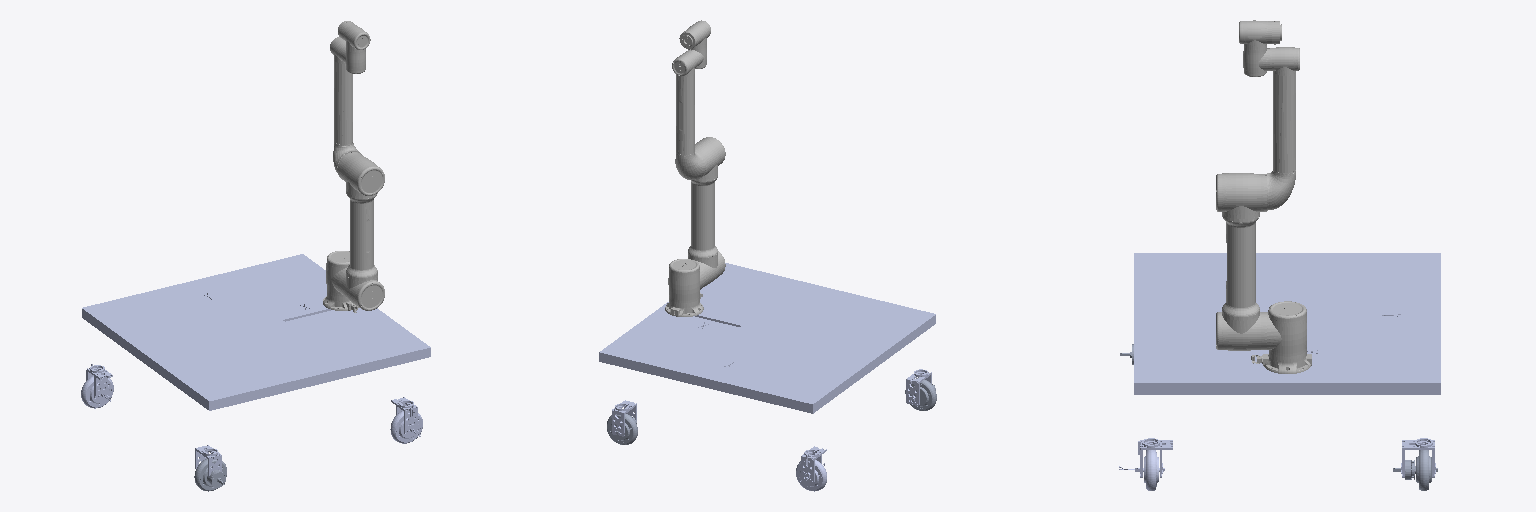
--- What the picture shows (computed from the rendered views, not written in the file) ---
3 views of the same robot in one strip: view 1: azimuth 30°, elevation 25°; view 2: azimuth 150°, elevation 25°; view 3: azimuth 270°, elevation 25° (orthographic).
Robot: robot_model — 17 links, 16 joints (10 revolute, 4 continuous, 2 fixed); root link base_footprint; default pose: every joint at zero.
Visible links, largest first — view 1: base_link, arm_link2, arm_link3, arm_link1, wheel_link4, arm_link5, wheel_link1, wheel_link3, turn_link1, turn_link3; view 2: base_link, arm_link2, arm_link3, arm_link1, wheel_link2, turn_link2, turn_link4, wheel_link3; view 3: base_link, arm_link2, arm_link3, arm_link1, arm_link5, wheel_link2, arm_link0, arm_link4, wheel_link1, turn_link2, turn_link1.
Link boxes in pixels (x1,y1,x2,y2): base_link: (82,254,430,410); arm_link2: (337,152,384,310); arm_link3: (330,37,361,172); arm_link1: (326,251,349,301); wheel_link4: (194,459,226,491); arm_link5: (341,23,370,50); wheel_link1: (390,411,422,443); wheel_link3: (81,376,113,408); turn_link1: (391,397,417,434); turn_link3: (86,364,112,399); base_link: (599,263,935,413); arm_link2: (688,137,725,286); arm_link3: (672,50,705,179); arm_link1: (668,259,705,307); wheel_link2: (607,414,637,444); turn_link2: (612,400,636,436); turn_link4: (906,369,931,405); wheel_link3: (796,460,826,491); base_link: (1134,253,1440,394); arm_link2: (1216,173,1266,350); arm_link3: (1267,47,1299,210); arm_link1: (1267,301,1306,362); arm_link5: (1239,20,1271,48); wheel_link2: (1393,450,1437,490); arm_link0: (1251,354,1311,373); arm_link4: (1243,46,1267,76); wheel_link1: (1119,450,1164,490); turn_link2: (1401,438,1435,477); turn_link1: (1138,438,1172,477).
Bounding box of the posed robot: 1.24 × 1.26 × 1.99 m (x, y, z).
16 mesh visuals loaded from 16 distinct referenced files (16 binary STL).

URDF robot description (robot_model):
<?xml version="1.0" encoding="utf-8"?>
<!-- This URDF was automatically created by SolidWorks to URDF Exporter! Originally created by Stephen Brawner ([email redacted]) 
     Commit Version: 1.5.1-0-g916b5db  Build Version: 1.5.7152.31018
     For more information, please see http://wiki.ros.org/sw_urdf_exporter -->
<robot
  name="robot_model">

  <link name="base_footprint">
  </link>

  <joint name="base_footprint2base_link" type="fixed">
    <origin xyz="0 0 0.5" rpy="0 0 0"/>
    <parent link="base_footprint"/>
    <child link="base_link"/>
    <axis xyz="0 0 0"/>
  </joint>



  <link
    name="base_link">
    <inertial>
      <origin
        xyz="-0.00893431238084795 -0.00410685218850798 -0.126974415298966"
        rpy="0 0 0" />
      <mass
        value="60.6584049873887" />
      <inertia
        ixx="1.93063361069271"
        ixy="-1.08148006992139E-05"
        ixz="-0.000147443513716209"
        iyy="2.82233947881137"
        iyz="3.80713670524455E-06"
        izz="4.57189084727919" />
    </inertial>
    <visual>
      <origin
        xyz="0 0 0"
        rpy="0 0 0" />
      <geometry>
        <mesh
          filename="package://robot_model/meshes/base_link.STL" />
      </geometry>
      <material
        name="">
        <color
          rgba="0.792156862745098 0.819607843137255 0.933333333333333 1" />
      </material>
    </visual>
    <collision>
      <origin
        xyz="0 0 0"
        rpy="0 0 0" />
      <geometry>
        <mesh
          filename="package://robot_model/meshes/base_link.STL" />
      </geometry>
    </collision>
  </link>
  <link
    name="arm_link0">
    <inertial>
      <origin
        xyz="-1.85892599924298E-07 -0.00115098665543706 0.0188300807306432"
        rpy="0 0 0" />
      <mass
        value="0.655152540803042" />
      <inertia
        ixx="0.00156276083969846"
        ixy="-3.36599648618771E-08"
        ixz="-1.62894681484622E-10"
        iyy="0.00121051829401654"
        iyz="-5.21192954217806E-06"
        izz="0.00262778163467102" />
    </inertial>
    <visual>
      <origin
        xyz="0 0 0"
        rpy="0 0 0" />
      <geometry>
        <mesh
          filename="package://robot_model/meshes/arm_link0.STL" />
      </geometry>
      <material
        name="">
        <color
          rgba="0.752941176470588 0.752941176470588 0.752941176470588 1" />
      </material>
    </visual>
    <collision>
      <origin
        xyz="0 0 0"
        rpy="0 0 0" />
      <geometry>
        <mesh
          filename="package://robot_model/meshes/arm_link0.STL" />
      </geometry>
    </collision>
  </link>
  <joint
    name="arm_joint0"
    type="fixed">
    <origin
      xyz="0.469251651718155 0 0.02"
      rpy="0 0 0" />
    <parent
      link="base_link" />
    <child
      link="arm_link0" />
    <axis
      xyz="0 0 0" />
  </joint>
  <link
    name="arm_link1">
    <inertial>
      <origin
        xyz="6.56593143250062E-06 -0.00217986182575047 -0.00131736708112296"
        rpy="0 0 0" />
      <mass
        value="3.60449209211676" />
      <inertia
        ixx="0.0126654074039028"
        ixy="-2.62089433741316E-07"
        ixz="-1.31830270669369E-07"
        iyy="0.0127154549514285"
        iyz="0.000389410015223875"
        izz="0.0111093940722602" />
    </inertial>
    <visual>
      <origin
        xyz="0 0 0"
        rpy="0 0 0" />
      <geometry>
        <mesh
          filename="package://robot_model/meshes/arm_link1.STL" />
      </geometry>
      <material
        name="">
        <color
          rgba="0.752941176470588 0.752941176470588 0.752941176470588 1" />
      </material>
    </visual>
    <collision>
      <origin
        xyz="0 0 0"
        rpy="0 0 0" />
      <geometry>
        <mesh
          filename="package://robot_model/meshes/arm_link1.STL" />
      </geometry>
    </collision>
  </link>
  <joint
    name="arm_joint1"
    type="revolute">
    <origin
      xyz="0 0 0.14261"
      rpy="0 0 0" />
    <parent
      link="arm_link0" />
    <child
      link="arm_link1" />
    <axis
      xyz="0 0 -1" />
    <limit
      lower="-4.71"
      upper="4.71"
      effort="160"
      velocity="2.09" />
  </joint>
  <link
    name="arm_link2">
    <inertial>
      <origin
        xyz="0.297295860029644 -7.22116929952055E-06 0.181245687804858"
        rpy="0 0 0" />
      <mass
        value="12.2380791922919" />
      <inertia
        ixx="0.0343806292140874"
        ixy="5.21480259951953E-07"
        ixz="-4.57209805955594E-06"
        iyy="0.119109154320758"
        iyz="3.32647013373687E-10"
        izz="0.116279406836501" />
    </inertial>
    <visual>
      <origin
        xyz="0 0 0"
        rpy="0 0 0" />
      <geometry>
        <mesh
          filename="package://robot_model/meshes/arm_link2.STL" />
      </geometry>
      <material
        name="">
        <color
          rgba="0.752941176470588 0.752941176470588 0.752941176470588 1" />
      </material>
    </visual>
    <collision>
      <origin
        xyz="0 0 0"
        rpy="0 0 0" />
      <geometry>
        <mesh
          filename="package://robot_model/meshes/arm_link2.STL" />
      </geometry>
    </collision>
  </link>
  <joint
    name="arm_joint2"
    type="revolute">
    <origin
      xyz="0 0 0"
      rpy="1.5708 -1.5708 0" />
    <parent
      link="arm_link1" />
    <child
      link="arm_link2" />
    <axis
      xyz="0 0 -1" />
    <limit
      lower="-1.48"
      upper="4.63"
      effort="159.24"
      velocity="2.09" />
  </joint>
  <link
    name="arm_link3">
    <inertial>
      <origin
        xyz="0.279323373643594 -2.05269174754497E-05 -0.0168804752155597"
        rpy="0 0 0" />
      <mass
        value="4.95956568648557" />
      <inertia
        ixx="0.0070392604484286"
        ixy="-1.10355720175606E-06"
        ixz="-0.00581502732927868"
        iyy="0.121787936376111"
        iyz="-1.14663299532286E-07"
        izz="0.121496286554897" />
    </inertial>
    <visual>
      <origin
        xyz="0 0 0"
        rpy="0 0 0" />
      <geometry>
        <mesh
          filename="package://robot_model/meshes/arm_link3.STL" />
      </geometry>
      <material
        name="">
        <color
          rgba="0.752941176470588 0.752941176470588 0.752941176470588 1" />
      </material>
    </visual>
    <collision>
      <origin
        xyz="0 0 0"
        rpy="0 0 0" />
      <geometry>
        <mesh
          filename="package://robot_model/meshes/arm_link3.STL" />
      </geometry>
    </collision>
  </link>
  <joint
    name="arm_joint3"
    type="revolute">
    <origin
      xyz="0.59497 -2.3063E-05 0"
      rpy="-3.1416 0 0" />
    <parent
      link="arm_link2" />
    <child
      link="arm_link3" />
    <axis
      xyz="0 0 1" />
    <limit
      lower="-3.05"
      upper="3.05"
      effort="82.38"
      velocity="2.09" />
  </joint>
  <link
    name="arm_link4">
    <inertial>
      <origin
        xyz="-2.96649884686251E-05 -0.002621237975338 0.124278582104445"
        rpy="0 0 0" />
      <mass
        value="0.838886390347174" />
      <inertia
        ixx="0.00145630007823869"
        ixy="-1.63799148217372E-09"
        ixz="6.54274434315661E-09"
        iyy="0.00098615661868495"
        iyz="3.14742670990643E-06"
        izz="0.0014481473926624" />
    </inertial>
    <visual>
      <origin
        xyz="0 0 0"
        rpy="0 0 0" />
      <geometry>
        <mesh
          filename="package://robot_model/meshes/arm_link4.STL" />
      </geometry>
      <material
        name="">
        <color
          rgba="0.752941176470588 0.752941176470588 0.752941176470588 1" />
      </material>
    </visual>
    <collision>
      <origin
        xyz="0 0 0"
        rpy="0 0 0" />
      <geometry>
        <mesh
          filename="package://robot_model/meshes/arm_link4.STL" />
      </geometry>
    </collision>
  </link>
  <joint
    name="arm_joint4"
    type="revolute">
    <origin
      xyz="0.574643539264634 -4.5712785851082E-05 0"
      rpy="-3.14159265358979 0 -1.5707963267949" />
    <parent
      link="arm_link3" />
    <child
      link="arm_link4" />
    <axis
      xyz="0 0 1" />
    <limit
      lower="-1.48"
      upper="4.63"
      effort="13.44"
      velocity="3.14" />
  </joint>
  <link
    name="arm_link5">
    <inertial>
      <origin
        xyz="1.93547867122223E-07 0.12717221555251 -0.0011354400305007"
        rpy="0 0 0" />
      <mass
        value="0.838308466445079" />
      <inertia
        ixx="0.00145558323350275"
        ixy="4.49383625882674E-09"
        ixz="6.58455661563857E-09"
        iyy="0.00100189729657383"
        iyz="-1.22072724248397E-06"
        izz="0.00144948878190334" />
    </inertial>
    <visual>
      <origin
        xyz="0 0 0"
        rpy="0 0 0" />
      <geometry>
        <mesh
          filename="package://robot_model/meshes/arm_link5.STL" />
      </geometry>
      <material
        name="">
        <color
          rgba="0.752941176470588 0.752941176470588 0.752941176470588 1" />
      </material>
    </visual>
    <collision>
      <origin
        xyz="0 0 0"
        rpy="0 0 0" />
      <geometry>
        <mesh
          filename="package://robot_model/meshes/arm_link5.STL" />
      </geometry>
    </collision>
  </link>
  <joint
    name="arm_joint5"
    type="revolute">
    <origin
      xyz="-2.9874E-05 -0.11445 0"
      rpy="1.5708 0 0" />
    <parent
      link="arm_link4" />
    <child
      link="arm_link5" />
    <axis
      xyz="0 0 1" />
    <limit
      lower="-4.71"
      upper="4.71"
      effort="12.06"
      velocity="3.14" />
  </joint>
  <link
    name="arm_link6">
    <inertial>
      <origin
        xyz="-4.913320295441E-05 0.000344891733140895 -0.0420522876754666"
        rpy="0 0 0" />
      <mass
        value="0.18561500243153" />
      <inertia
        ixx="0.000124025995543342"
        ixy="-5.32236134535511E-08"
        ixz="2.56685033045269E-08"
        iyy="0.000124255184258649"
        iyz="-2.96050182378096E-07"
        izz="0.000211261380376879" />
    </inertial>
    <visual>
      <origin
        xyz="0 0 0"
        rpy="0 0 0" />
      <geometry>
        <mesh
          filename="package://robot_model/meshes/arm_link6.STL" />
      </geometry>
      <material
        name="">
        <color
          rgba="0.752941176470588 0.752941176470588 0.752941176470588 1" />
      </material>
    </visual>
    <collision>
      <origin
        xyz="0 0 0"
        rpy="0 0 0" />
      <geometry>
        <mesh
          filename="package://robot_model/meshes/arm_link6.STL" />
      </geometry>
    </collision>
  </link>
  <joint
    name="joint_link6"
    type="revolute">
    <origin
      xyz="0 0 0"
      rpy="1.5707963267949 0 0" />
    <parent
      link="arm_link5" />
    <child
      link="arm_link6" />
    <axis
      xyz="0 0 1" />
    <limit
      lower="-4.71"
      upper="4.71"
      effort="5.46"
      velocity="3.14" />
  </joint>
  <link
    name="turn_link1">
    <inertial>
      <origin
        xyz="4.78495572497906E-06 -0.00533710570631507 -0.0635741590696821"
        rpy="0 0 0" />
      <mass
        value="0.216185282126058" />
      <inertia
        ixx="0.00026246870165202"
        ixy="9.23224201425085E-12"
        ixz="2.5732826757356E-08"
        iyy="0.000263417398814689"
        iyz="1.65492626580328E-06"
        izz="0.00019815950604125" />
    </inertial>
    <visual>
      <origin
        xyz="0 0 0"
        rpy="0 0 0" />
      <geometry>
        <mesh
          filename="package://robot_model/meshes/turn_link1.STL" />
      </geometry>
      <material
        name="">
        <color
          rgba="0.792156862745098 0.819607843137255 0.933333333333333 1" />
      </material>
    </visual>
    <collision>
      <origin
        xyz="0 0 0"
        rpy="0 0 0" />
      <geometry>
        <mesh
          filename="package://robot_model/meshes/turn_link1.STL" />
      </geometry>
    </collision>
  </link>
  <joint
    name="joint_turn1"
    type="revolute">
    <origin
      xyz="0.51025165171796 -0.531954815283265 -0.415396961061793"
      rpy="3.14159265358979 0 0" />
    <parent
      link="base_link" />
    <child
      link="turn_link1" />
    <axis
      xyz="0 0 1" />
    <limit
      lower="-6.28"
      upper="6.28"
      effort="24"
      velocity="392.7" />
  </joint>
  <link
    name="wheel_link1">
    <inertial>
      <origin
        xyz="-9.23771441119214E-07 -1.45099633808154E-07 9.05810189412715E-05"
        rpy="0 0 0" />
      <mass
        value="1.00158503747343" />
      <inertia
        ixx="0.00173475166931306"
        ixy="9.86515466133112E-10"
        ixz="-1.16441874880337E-08"
        iyy="0.00173476885800945"
        iyz="1.80126237976292E-09"
        izz="0.00304652603387399" />
    </inertial>
    <visual>
      <origin
        xyz="0 0 0"
        rpy="0 0 0" />
      <geometry>
        <mesh
          filename="package://robot_model/meshes/wheel_link1.STL" />
      </geometry>
      <material
        name="">
        <color
          rgba="0.792156862745098 0.819607843137255 0.933333333333333 1" />
      </material>
    </visual>
    <collision>
      <origin
        xyz="0 0 0"
        rpy="0 0 0" />
      <geometry>
        <mesh
          filename="package://robot_model/meshes/wheel_link1.STL" />
      </geometry>
    </collision>
  </link>
  <joint
    name="joint_wheel1"
    type="continuous">
    <origin
      xyz="0 0 0"
      rpy="1.5707963267949 1.5707963267949 0" />
    <parent
      link="turn_link1" />
    <child
      link="wheel_link1" />
    <axis
      xyz="0 0 -1" />
  </joint>
  <link
    name="turn_link2">
    <inertial>
      <origin
        xyz="2.83465867445543E-09 0.0200042619428674 -0.0631120030681842"
        rpy="0 0 0" />
      <mass
        value="0.212907250011006" />
      <inertia
        ixx="0.00026151235533371"
        ixy="9.23224334742709E-12"
        ixz="2.9018916968451E-12"
        iyy="0.000262449337362649"
        iyz="-1.65492626580359E-06"
        izz="0.000198093157038937" />
    </inertial>
    <visual>
      <origin
        xyz="0 0 0"
        rpy="0 0 0" />
      <geometry>
        <mesh
          filename="package://robot_model/meshes/turn_link2.STL" />
      </geometry>
      <material
        name="">
        <color
          rgba="0.792156862745098 0.819607843137255 0.933333333333333 1" />
      </material>
    </visual>
    <collision>
      <origin
        xyz="0 0 0"
        rpy="0 0 0" />
      <geometry>
        <mesh
          filename="package://robot_model/meshes/turn_link2.STL" />
      </geometry>
    </collision>
  </link>
  <joint
    name="turn_jiont2"
    type="revolute">
    <origin
      xyz="0.510251651718055 0.531954815283242 -0.415396961061802"
      rpy="-3.14159265358979 0 0" />
    <parent
      link="base_link" />
    <child
      link="turn_link2" />
    <axis
      xyz="0 0 1" />
    <limit
      lower="-6.28"
      upper="6.28"
      effort="24"
      velocity="392.7" />
  </joint>
  <link
    name="wheel_link2">
    <inertial>
      <origin
        xyz="7.83556561412269E-07 8.00142584300723E-07 -0.0108319687597789"
        rpy="0 0 0" />
      <mass
        value="2.70084577274723" />
      <inertia
        ixx="0.00550122561756971"
        ixy="3.26944950597682E-08"
        ixz="-4.5961962270357E-07"
        iyy="0.00550150558695668"
        iyz="8.19279366600689E-08"
        izz="0.00712927200457169" />
    </inertial>
    <visual>
      <origin
        xyz="0 0 0"
        rpy="0 0 0" />
      <geometry>
        <mesh
          filename="package://robot_model/meshes/wheel_link2.STL" />
      </geometry>
      <material
        name="">
        <color
          rgba="0.666666666666667 0.698039215686274 0.768627450980392 1" />
      </material>
    </visual>
    <collision>
      <origin
        xyz="0 0 0"
        rpy="0 0 0" />
      <geometry>
        <mesh
          filename="package://robot_model/meshes/wheel_link2.STL" />
      </geometry>
    </collision>
  </link>
  <joint
    name="joint_wheel2"
    type="continuous">
    <origin
      xyz="0 0 0"
      rpy="1.5707963267949 1.5707963267949 0" />
    <parent
      link="turn_link2" />
    <child
      link="wheel_link2" />
    <axis
      xyz="0 0 -1" />
  </joint>
  <link
    name="turn_link3">
    <inertial>
      <origin
        xyz="-4.78495572542315E-06 0.00533710570631452 -0.0635741590696814"
        rpy="0 0 0" />
      <mass
        value="0.216185282126058" />
      <inertia
        ixx="0.000262468701652019"
        ixy="9.23224218417622E-12"
        ixz="-2.57328267574584E-08"
        iyy="0.000263417398814688"
        iyz="-1.65492626580302E-06"
        izz="0.00019815950604125" />
    </inertial>
    <visual>
      <origin
        xyz="0 0 0"
        rpy="0 0 0" />
      <geometry>
        <mesh
          filename="package://robot_model/meshes/turn_link3.STL" />
      </geometry>
      <material
        name="">
        <color
          rgba="0.792156862745098 0.819607843137255 0.933333333333333 1" />
      </material>
    </visual>
    <collision>
      <origin
        xyz="0 0 0"
        rpy="0 0 0" />
      <geometry>
        <mesh
          filename="package://robot_model/meshes/turn_link3.STL" />
      </geometry>
    </collision>
  </link>
  <joint
    name="joint_turn3"
    type="revolute">
    <origin
      xyz="-0.551748348281648 0.531954815283274 -0.415396961061793"
      rpy="3.14159265358979 0 0" />
    <parent
      link="base_link" />
    <child
      link="turn_link3" />
    <axis
      xyz="0 0 1" />
    <limit
      lower="-6.28"
      upper="6.28"
      effort="24"
      velocity="392.7" />
  </joint>
  <link
    name="wheel_link3">
    <inertial>
      <origin
        xyz="-9.23785491213636E-07 -1.45096786585697E-07 9.05810052858058E-05"
        rpy="0 0 0" />
      <mass
        value="1.00158503687007" />
      <inertia
        ixx="0.00173475166902223"
        ixy="9.86445932143399E-10"
        ixz="-1.16438750737094E-08"
        iyy="0.00173476885738913"
        iyz="1.80119923303238E-09"
        izz="0.00304652603351639" />
    </inertial>
    <visual>
      <origin
        xyz="0 0 0"
        rpy="0 0 0" />
      <geometry>
        <mesh
          filename="package://robot_model/meshes/wheel_link3.STL" />
      </geometry>
      <material
        name="">
        <color
          rgba="0.792156862745098 0.819607843137255 0.933333333333333 1" />
      </material>
    </visual>
    <collision>
      <origin
        xyz="0 0 0"
        rpy="0 0 0" />
      <geometry>
        <mesh
          filename="package://robot_model/meshes/wheel_link3.STL" />
      </geometry>
    </collision>
  </link>
  <joint
    name="joint_wheel3"
    type="continuous">
    <origin
      xyz="0 0 0"
      rpy="1.5707963267949 1.5707963267949 0" />
    <parent
      link="turn_link3" />
    <child
      link="wheel_link3" />
    <axis
      xyz="0 0 -1" />
  </joint>
  <link
    name="turn_link4">
    <inertial>
      <origin
        xyz="-2.83465928507809E-09 -0.0200042619428677 -0.0631120030681847"
        rpy="0 0 0" />
      <mass
        value="0.212907250011006" />
      <inertia
        ixx="0.000261512355333709"
        ixy="9.23224360383132E-12"
        ixz="-2.90189147530696E-12"
        iyy="0.000262449337362648"
        iyz="1.65492626580328E-06"
        izz="0.000198093157038937" />
    </inertial>
    <visual>
      <origin
        xyz="0 0 0"
        rpy="0 0 0" />
      <geometry>
        <mesh
          filename="package://robot_model/meshes/turn_link4.STL" />
      </geometry>
      <material
        name="">
        <color
          rgba="0.792156862745098 0.819607843137255 0.933333333333333 1" />
      </material>
    </visual>
    <collision>
      <origin
        xyz="0 0 0"
        rpy="0 0 0" />
      <geometry>
        <mesh
          filename="package://robot_model/meshes/turn_link4.STL" />
      </geometry>
    </collision>
  </link>
  <joint
    name="joint_turn4"
    type="revolute">
    <origin
      xyz="-0.55175 -0.53195 -0.4154"
      rpy="-3.1416 0 0" />
    <parent
      link="base_link" />
    <child
      link="turn_link4" />
    <axis
      xyz="0 0 1" />
    <limit
      lower="-6.28"
      upper="6.28"
      effort="24"
      velocity="392.7" />
  </joint>
  <link
    name="wheel_link4">
    <inertial>
      <origin
        xyz="7.83556146188857E-07 8.00143050705415E-07 -0.0108319687590166"
        rpy="0 0 0" />
      <mass
        value="2.70084577283169" />
      <inertia
        ixx="0.00550122561765213"
        ixy="3.26945128080932E-08"
        ixz="-4.59619591093497E-07"
        iyy="0.0055015055870359"
        iyz="8.19279026897935E-08"
        izz="0.00712927200460767" />
    </inertial>
    <visual>
      <origin
        xyz="0 0 0"
        rpy="0 0 0" />
      <geometry>
        <mesh
          filename="package://robot_model/meshes/wheel_link4.STL" />
      </geometry>
      <material
        name="">
        <color
          rgba="0.666666666666667 0.698039215686274 0.768627450980392 1" />
      </material>
    </visual>
    <collision>
      <origin
        xyz="0 0 0"
        rpy="0 0 0" />
      <geometry>
        <mesh
          filename="package://robot_model/meshes/wheel_link4.STL" />
      </geometry>
    </collision>
  </link>
  <joint
    name="joint_wheel4"
    type="continuous">
    <origin
      xyz="0 0 0"
      rpy="1.57079632679489 1.5707963267949 0" />
    <parent
      link="turn_link4" />
    <child
      link="wheel_link4" />
    <axis
      xyz="0 0 -1" />
  </joint>
<transmission name="tran_turn1">
  <type>transmission_interface/SimpleTransmission</type>
    <joint name="joint_turn1">
    <hardwareInterface>hardware_interface/EffortJointInterface</hardwareInterface>
    </joint>
    <actuator name="motorturn1">
    <hardwareInterface>hardware_interface/EffortJointInterface</hardwareInterface>
    <mechanicalReduction>1</mechanicalReduction>
    </actuator> 
</transmission>


<transmission name="tran_turn2">
<type>transmission_interface/SimpleTransmission</type>
<joint name="joint_turn2">
<hardwareInterface>hardware_interface/EffortJointInterface</hardwareInterface>
</joint>
<actuator name="motorturn2">
<hardwareInterface>hardware_interface/EffortJointInterface</hardwareInterface>
<mechanicalReduction>1</mechanicalReduction>
</actuator> 
</transmission>


<transmission name="tran_turn3">
<type>transmission_interface/SimpleTransmission</type>
<joint name="joint_turn3">
<hardwareInterface>hardware_interface/EffortJointInterface</hardwareInterface>
</joint>
<actuator name="motorturn3">
<hardwareInterface>hardware_interface/EffortJointInterface</hardwareInterface>
<mechanicalReduction>1</mechanicalReduction>
</actuator> 
</transmission>


<transmission name="tran_turn4">
<type>transmission_interface/SimpleTransmission</type>
<joint name="joint_turn4">
<hardwareInterface>hardware_interface/EffortJointInterface</hardwareInterface>
</joint>
<actuator name="motorturn4">
<hardwareInterface>hardware_interface/EffortJointInterface</hardwareInterface>
<mechanicalReduction>1</mechanicalReduction>
</actuator> 
</transmission>



<transmission name="tran_wheel1">
<type>transmission_interface/SimpleTransmission</type>
<joint name="joint_wheel1">
<hardwareInterface>hardware_interface/EffortJointInterface</hardwareInterface>
</joint>
<actuator name="motorwheel1">
<hardwareInterface>hardware_interface/EffortJointInterface</hardwareInterface>
<mechanicalReduction>1</mechanicalReduction>
</actuator> 
</transmission>



<transmission name="tran_wheel2">
<type>transmission_interface/SimpleTransmission</type>
<joint name="joint_wheel2">
<hardwareInterface>hardware_interface/EffortJointInterface</hardwareInterface>
</joint>
<actuator name="motorwheel2">
<hardwareInterface>hardware_interface/EffortJointInterface</hardwareInterface>
<mechanicalReduction>1</mechanicalReduction>
</actuator> 
</transmission>



<transmission name="tran_wheel3">
<type>transmission_interface/SimpleTransmission</type>
<joint name="joint_wheel3">
<hardwareInterface>hardware_interface/EffortJointInterface</hardwareInterface>
</joint>
<actuator name="motorwheel3">
<hardwareInterface>hardware_interface/EffortJointInterface</hardwareInterface>
<mechanicalReduction>1</mechanicalReduction>
</actuator> 
</transmission>



<transmission name="tran_wheel4">
<type>transmission_interface/SimpleTransmission</type>
<joint name="joint_wheel4">
<hardwareInterface>hardware_interface/EffortJointInterface</hardwareInterface>
</joint>
<actuator name="motorwheel4">
<hardwareInterface>hardware_interface/EffortJointInterface</hardwareInterface>
<mechanicalReduction>1</mechanicalReduction>
</actuator> 
</transmission>

<gazebo>



</gazebo>

<plugin name="gazebo_ros_control" filename="libgazebo_ros_control.so">
<robotNamespace>/agv_sim</robotNamespace>
<robotSimType>gazebo_ros_control/DefaultRobotHWSim</robotSimType>
</plugin>

<!-- <gazebo>
  <plugin name="joint_state_publisher" filename="libgazebo_ros_joint_state_publisher.so">
  <jointName>joint_turn1, joint_turn2, joint_turn3, joint_turn4, 
    joint_wheel1,joint_wheel2,joint_wheel3,joint_wheel4</jointName>
  <updateRate>50.0</updateRate>
  <robotNamespace>/agv_sim</robotNamespace>
  <alwaysOn>true</alwaysOn>
  </plugin>
</gazebo> -->


</robot>
